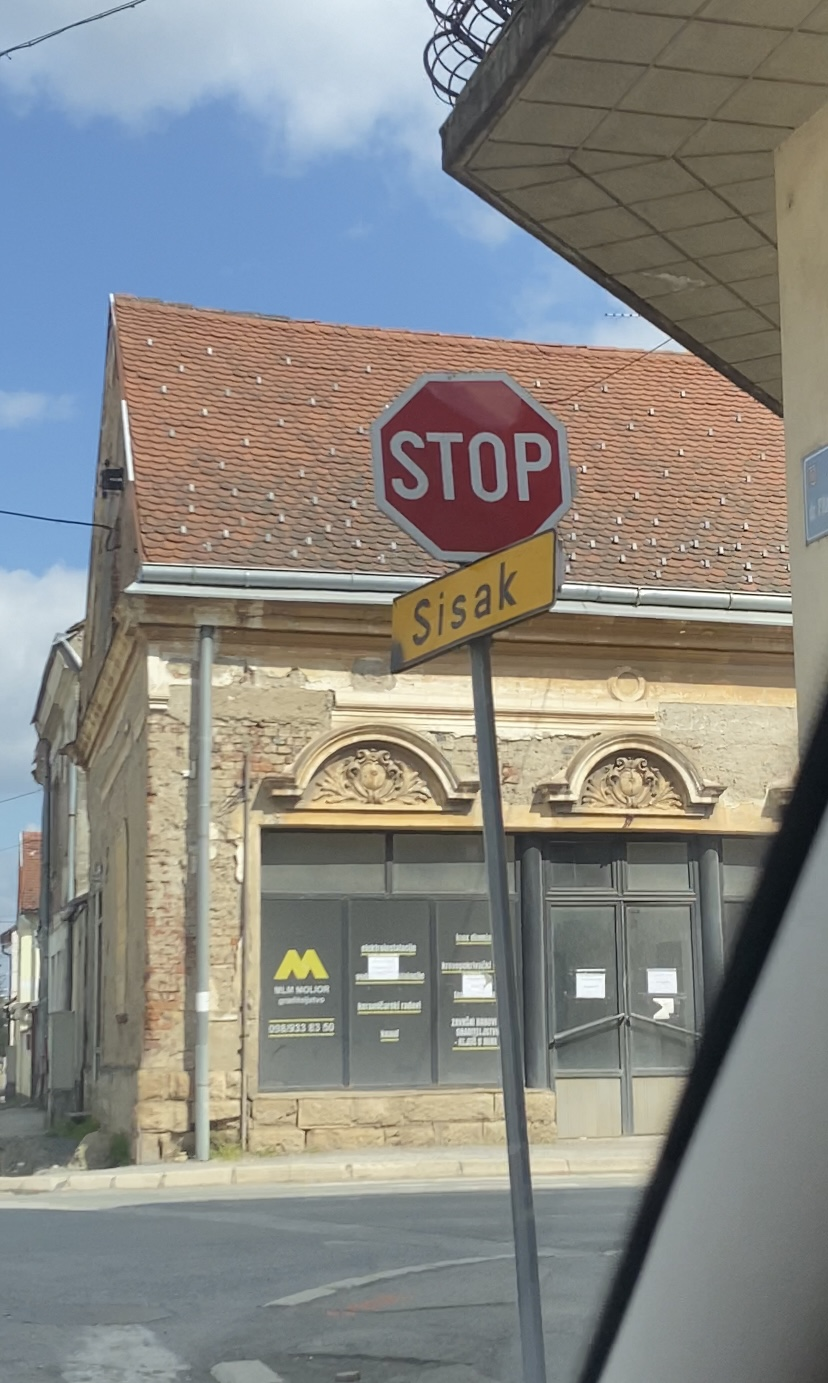Obavezno zaustavljanje: (372, 372, 575, 560)
